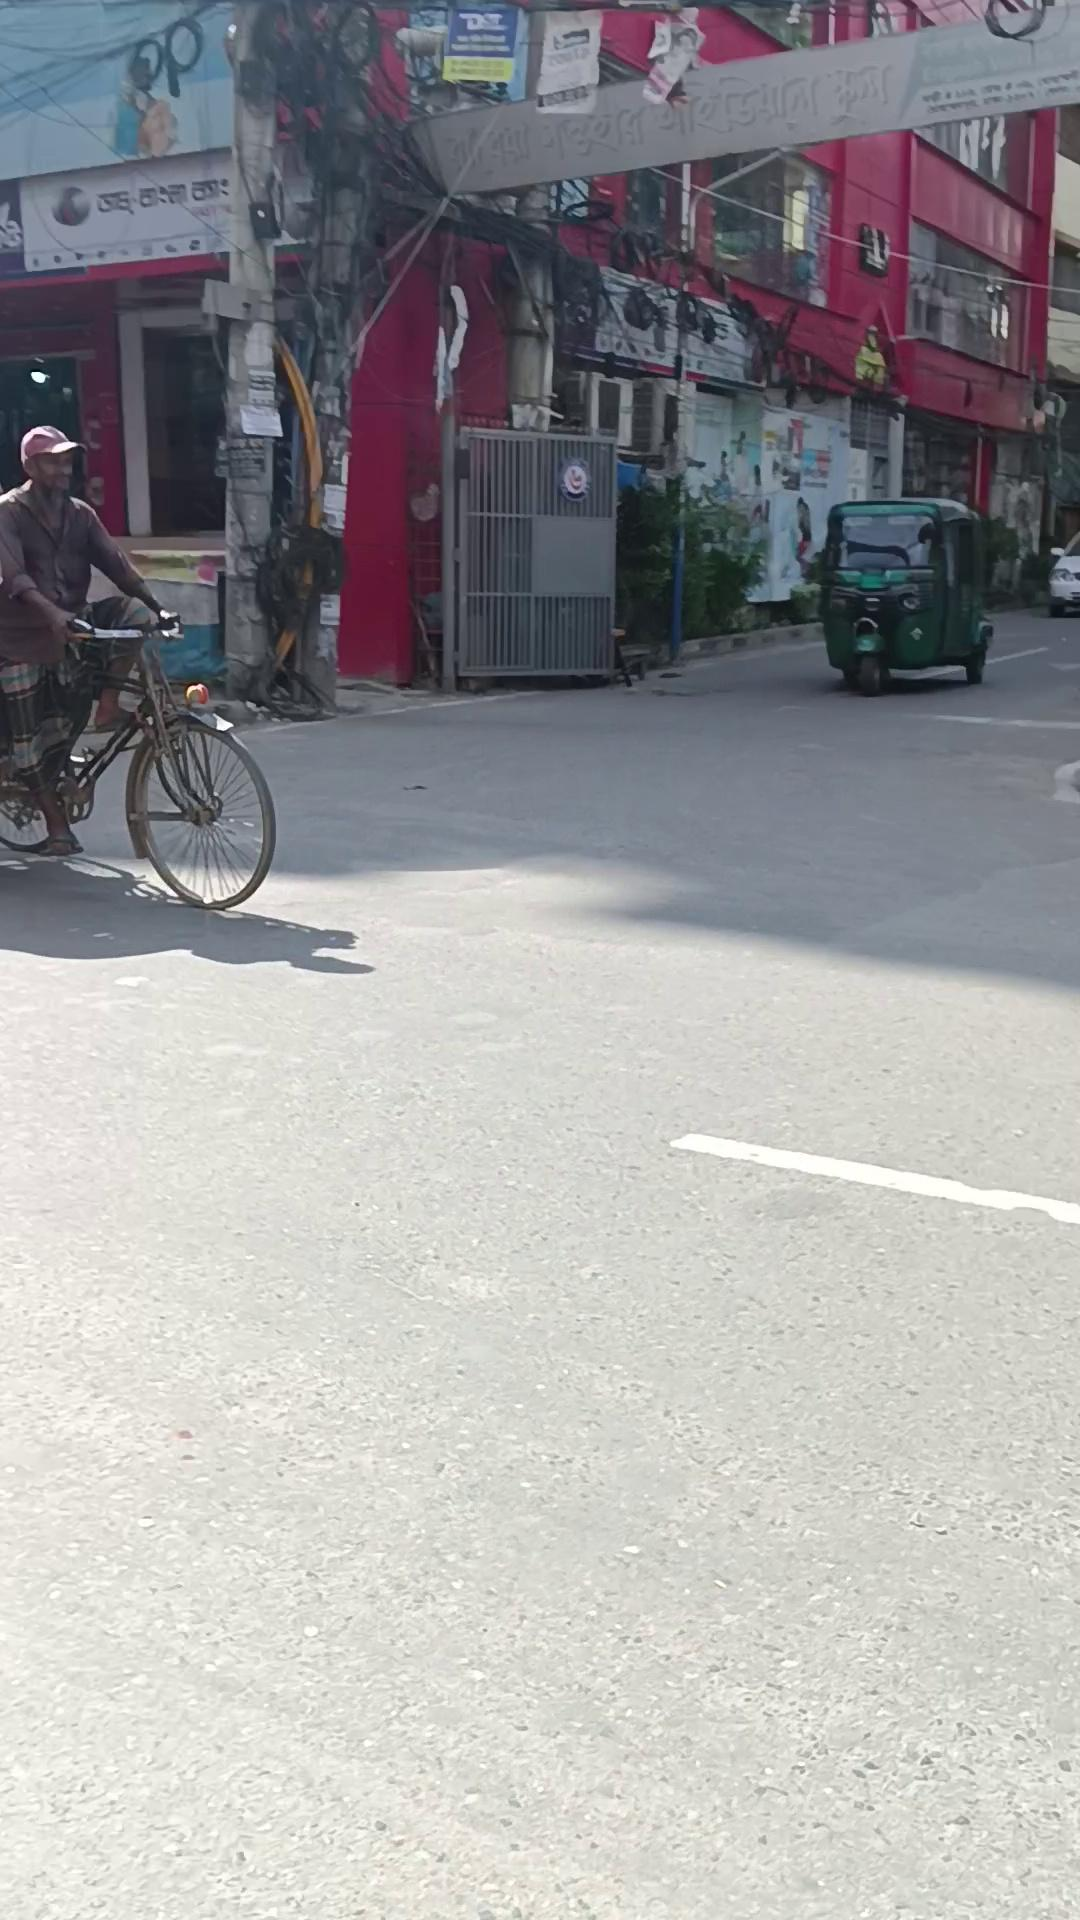Bollard: (1046, 529, 1079, 616)
Broken-road: (667, 616, 824, 662)
Curb: (0, 425, 174, 856)
Dog: (218, 11, 282, 703)
Fallen-tree: (787, 582, 822, 622)
Muddy road: (812, 495, 994, 696)
Obstacle: (244, 0, 1080, 691)
